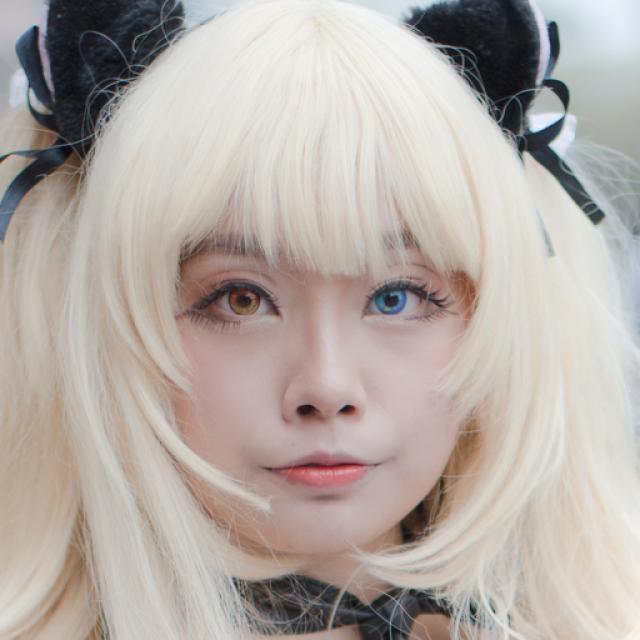neutral: (161, 162, 482, 558)
